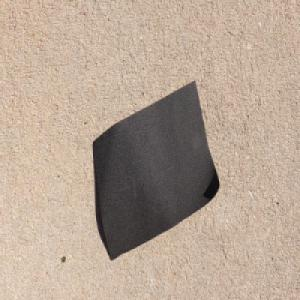PaintChip: (92, 78, 220, 262)
